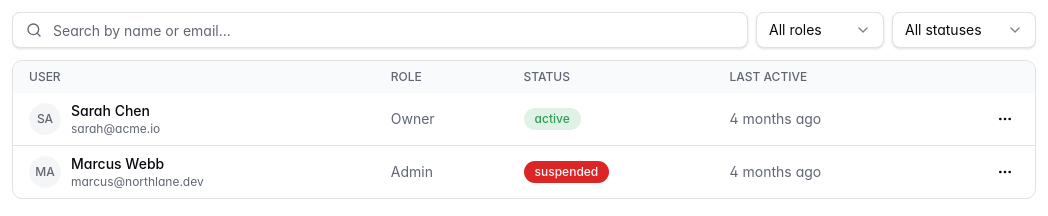
Scenario: UserManagementTable › filters users by search query
This screenshot has width=1048, height=216.
In the field named "Search users": x=380, y=30 [12,12,748,48], type "sarah"
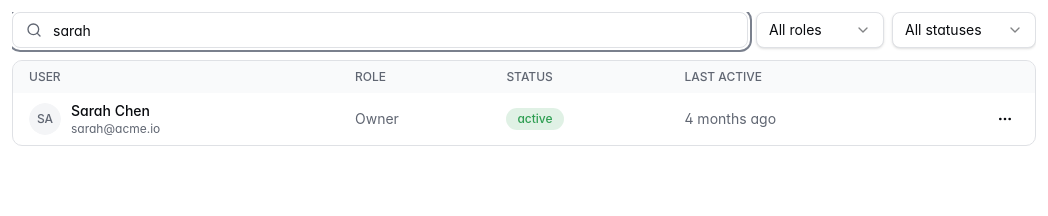
Expected: the text "Sarah Chen" is shown, [71,101,160,121]
Expected: the text "Marcus Webb" is gone
